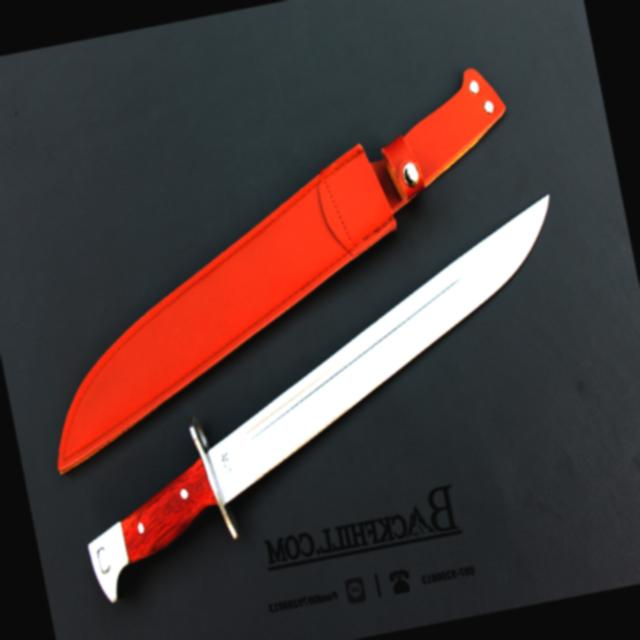long sword: (39, 193, 612, 612)
